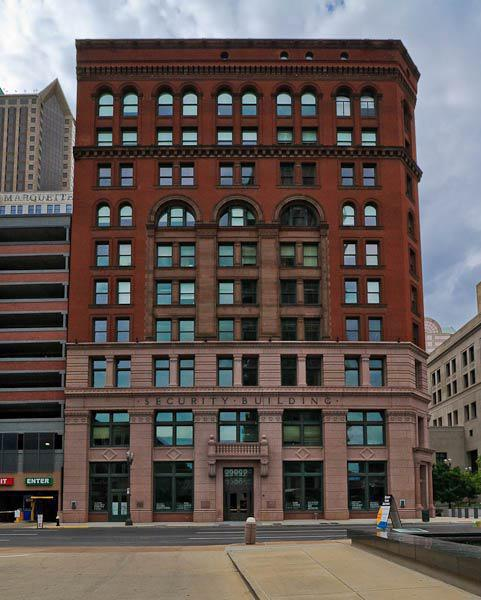affected: (64, 28, 444, 530)
